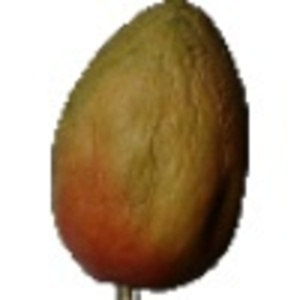mamão: (45, 2, 253, 295)
